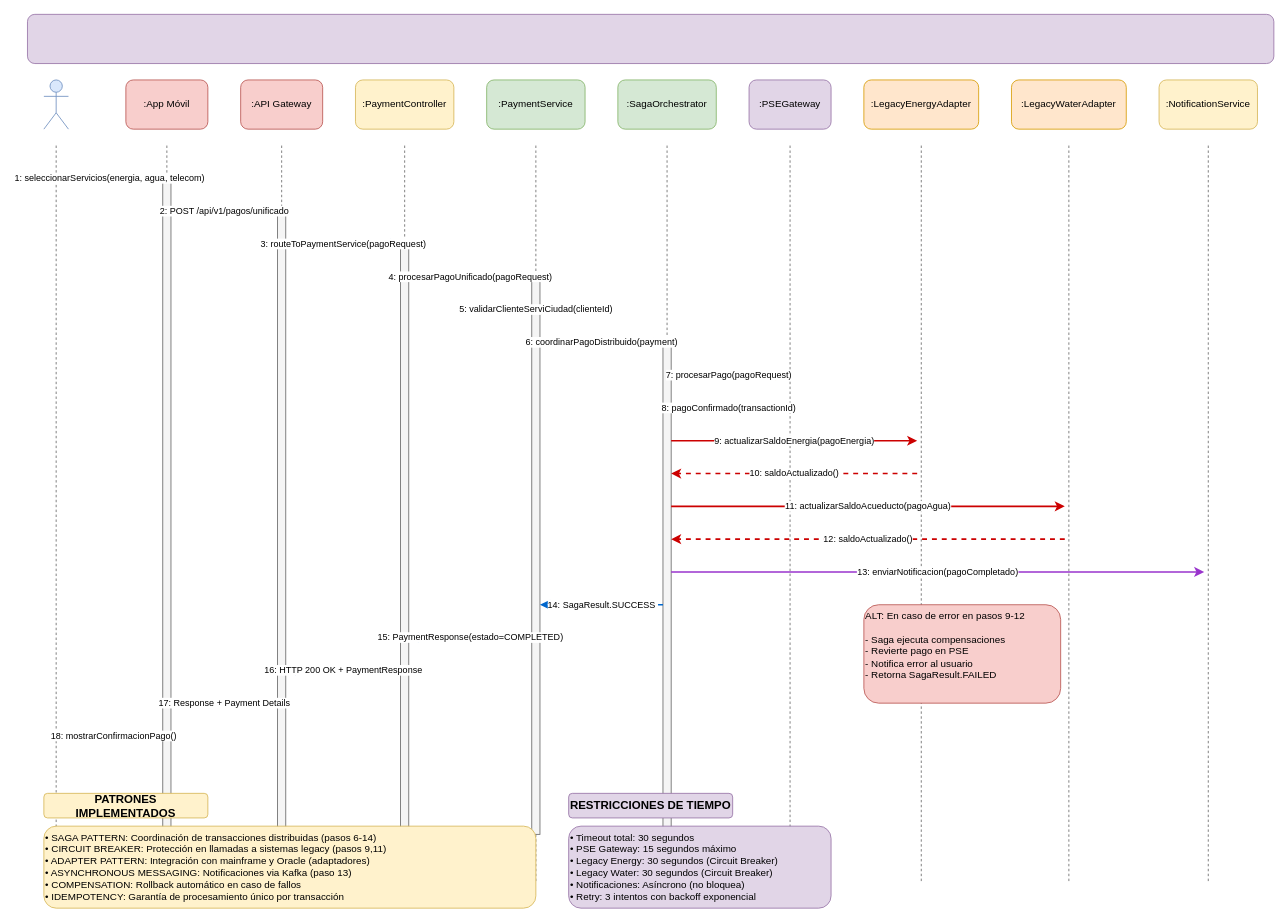
The diagram is 1288 pixels wide and 923 high, and some of its shapes have lost their labels. Each missing label, with the box of its shape:
:Ciudadano: (43, 79, 68, 129)
DIAGRAMA DE SECUENCIA - PAGO UNIFICADO SERVICIUDAD: (27, 14, 1274, 64)
